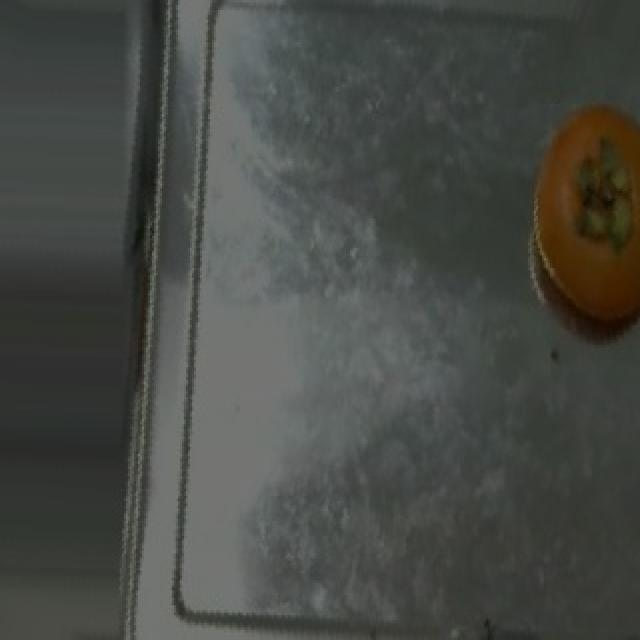Fruit: (510, 85, 640, 348)
